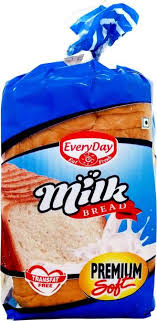bread: (1, 26, 155, 321)
